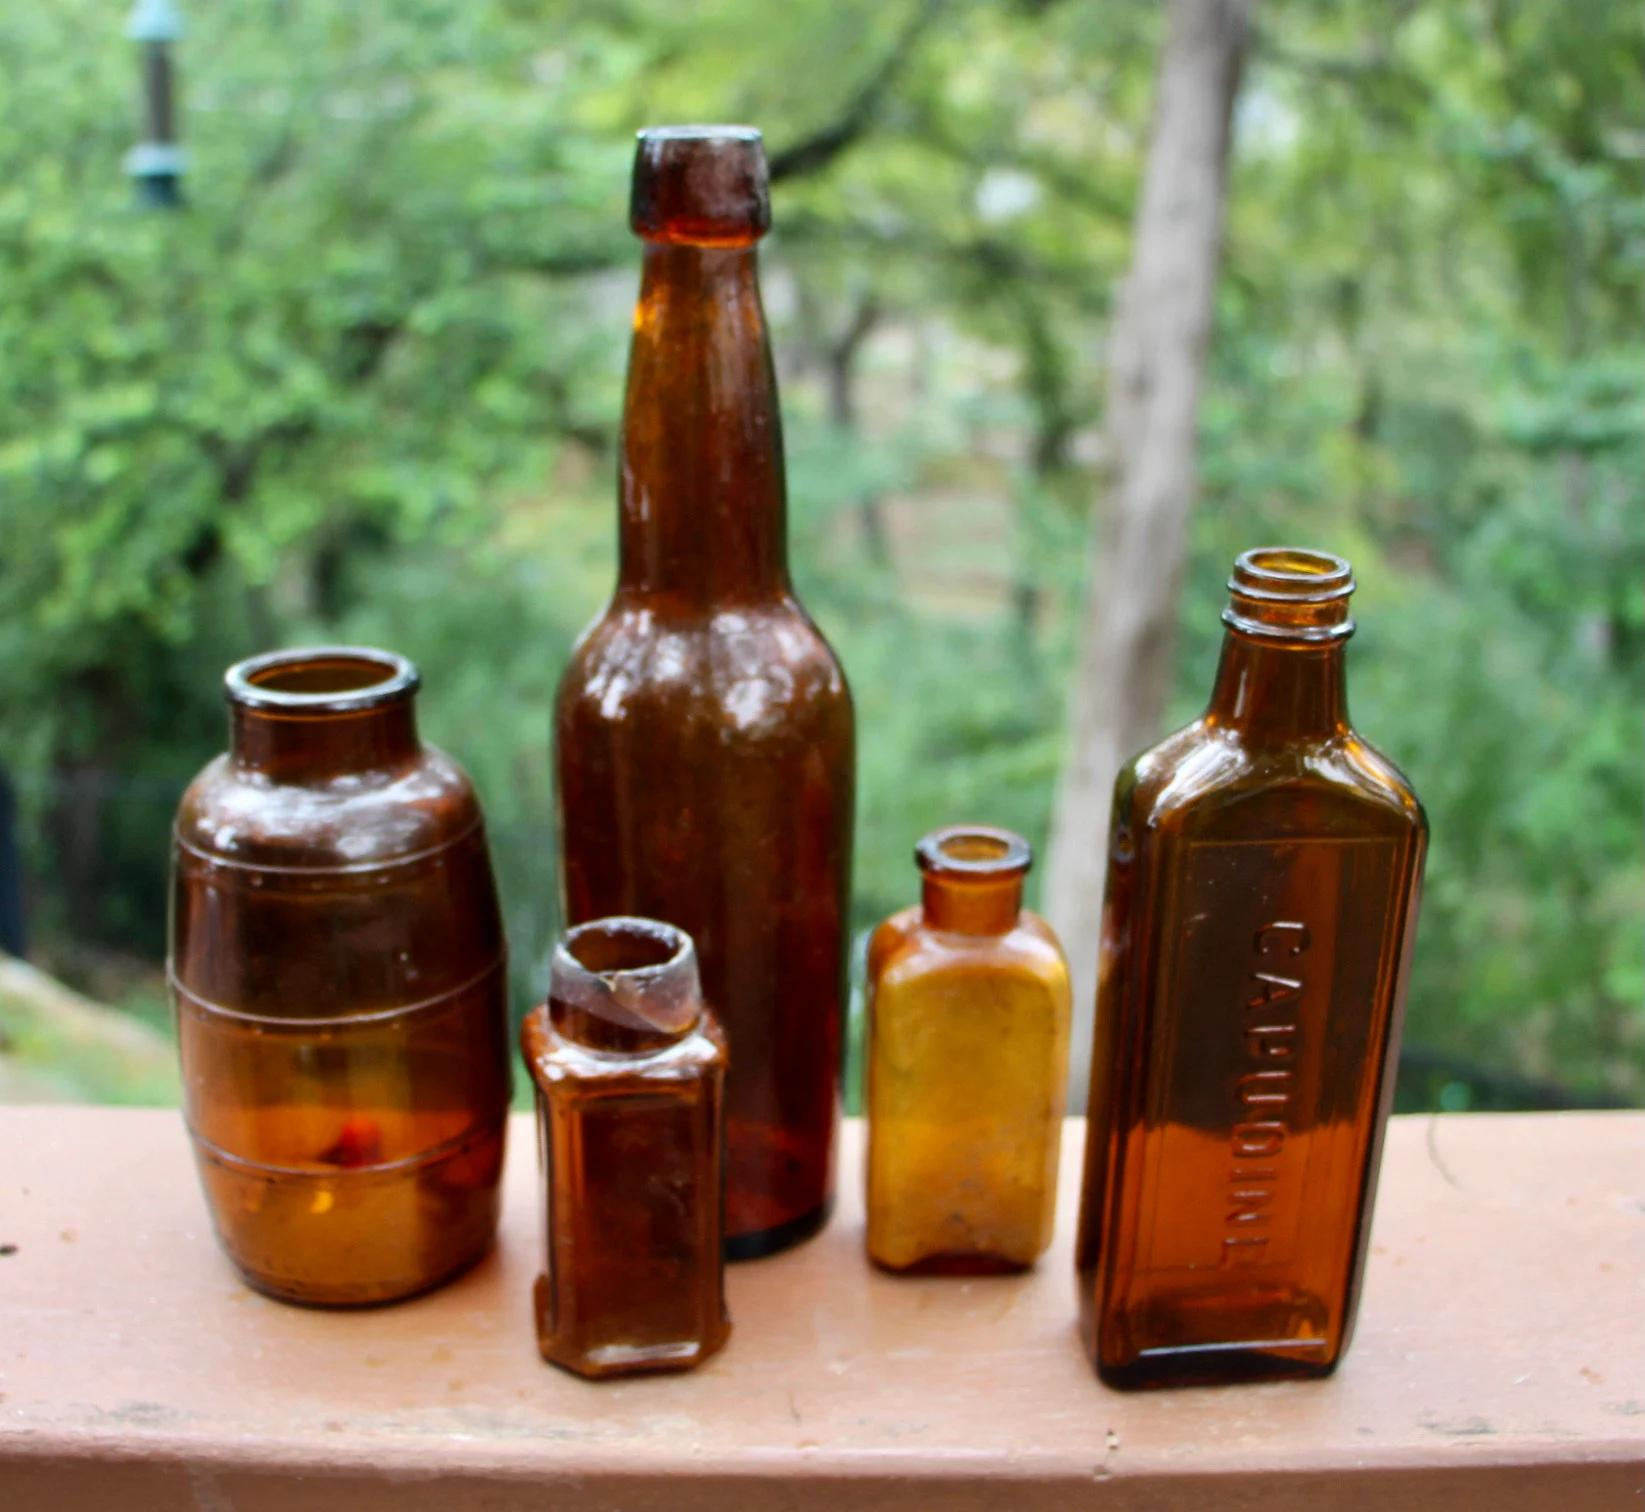glass: (534, 120, 844, 1383), (1092, 550, 1427, 1403), (171, 652, 510, 1311), (867, 833, 1063, 1274)
